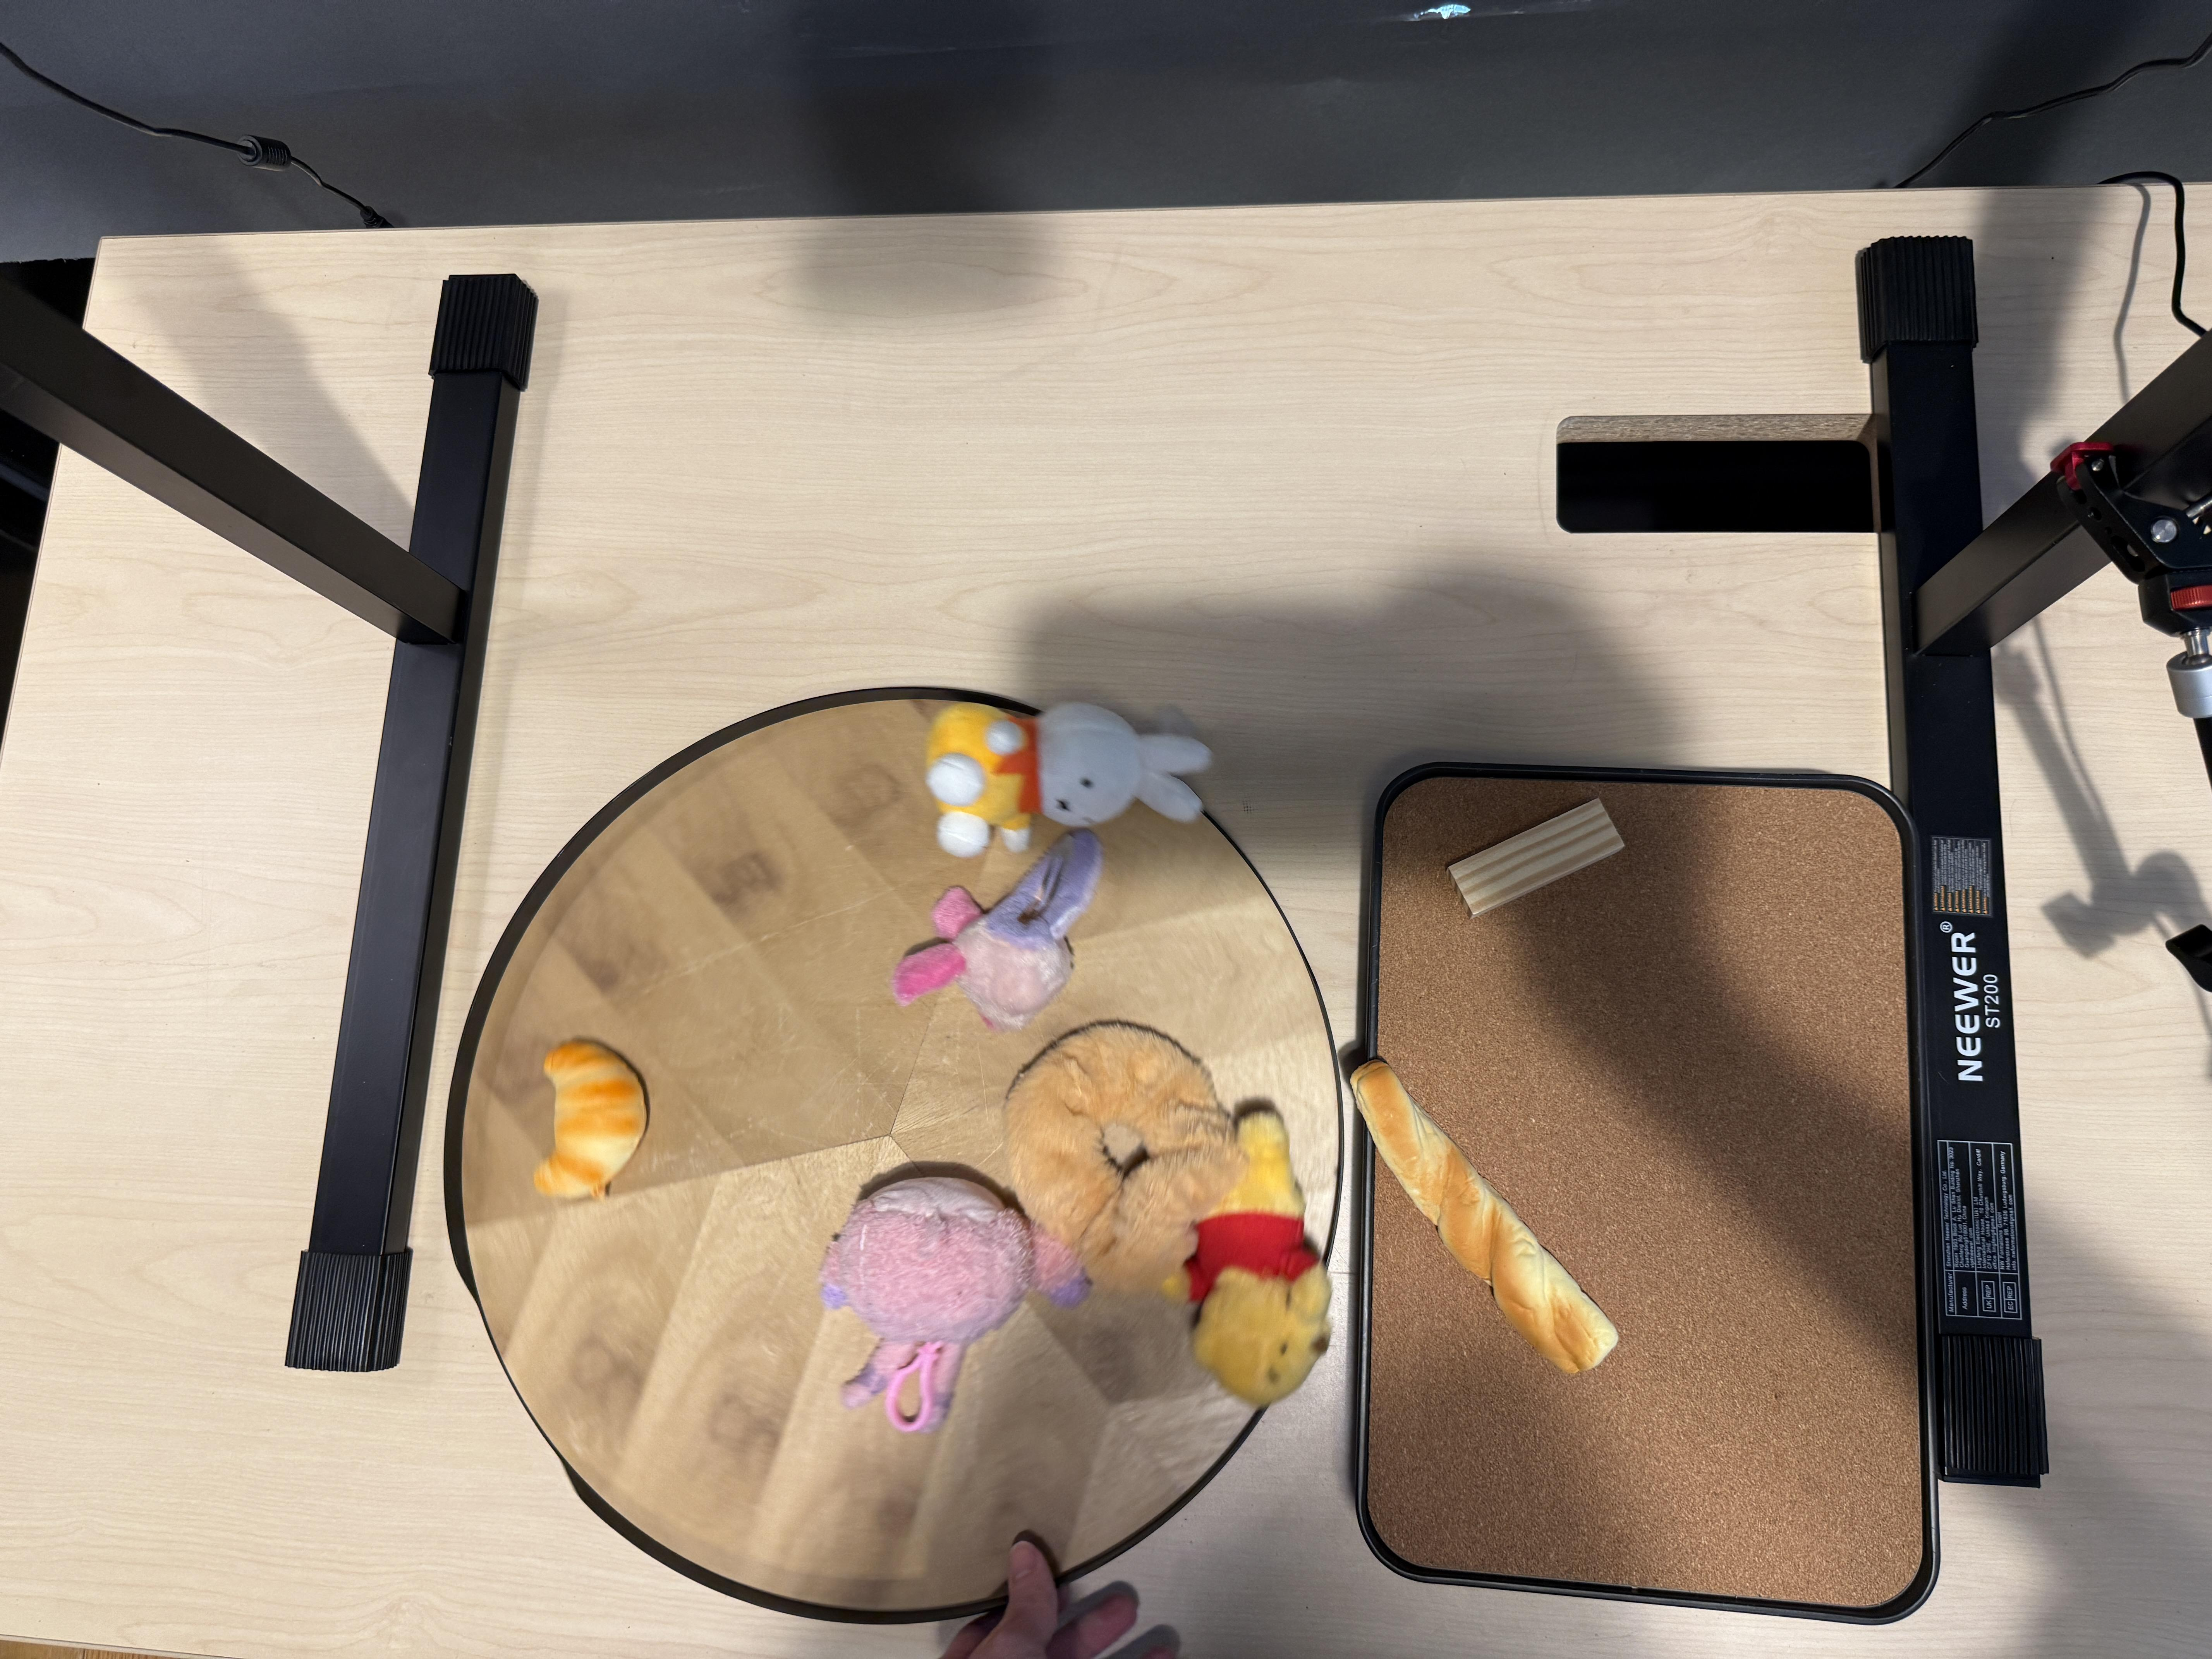block: (1442, 795, 1629, 924)
bread: (1350, 1063, 1625, 1377), (540, 1035, 650, 1204)
doll: (1007, 1021, 1332, 1405), (820, 1171, 1090, 1431), (925, 699, 1226, 850), (892, 826, 1099, 1039)
